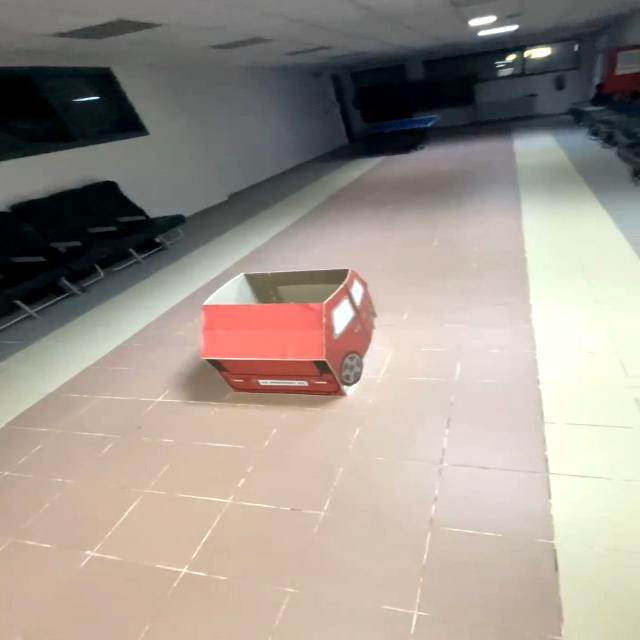red_car: (176, 246, 419, 418)
